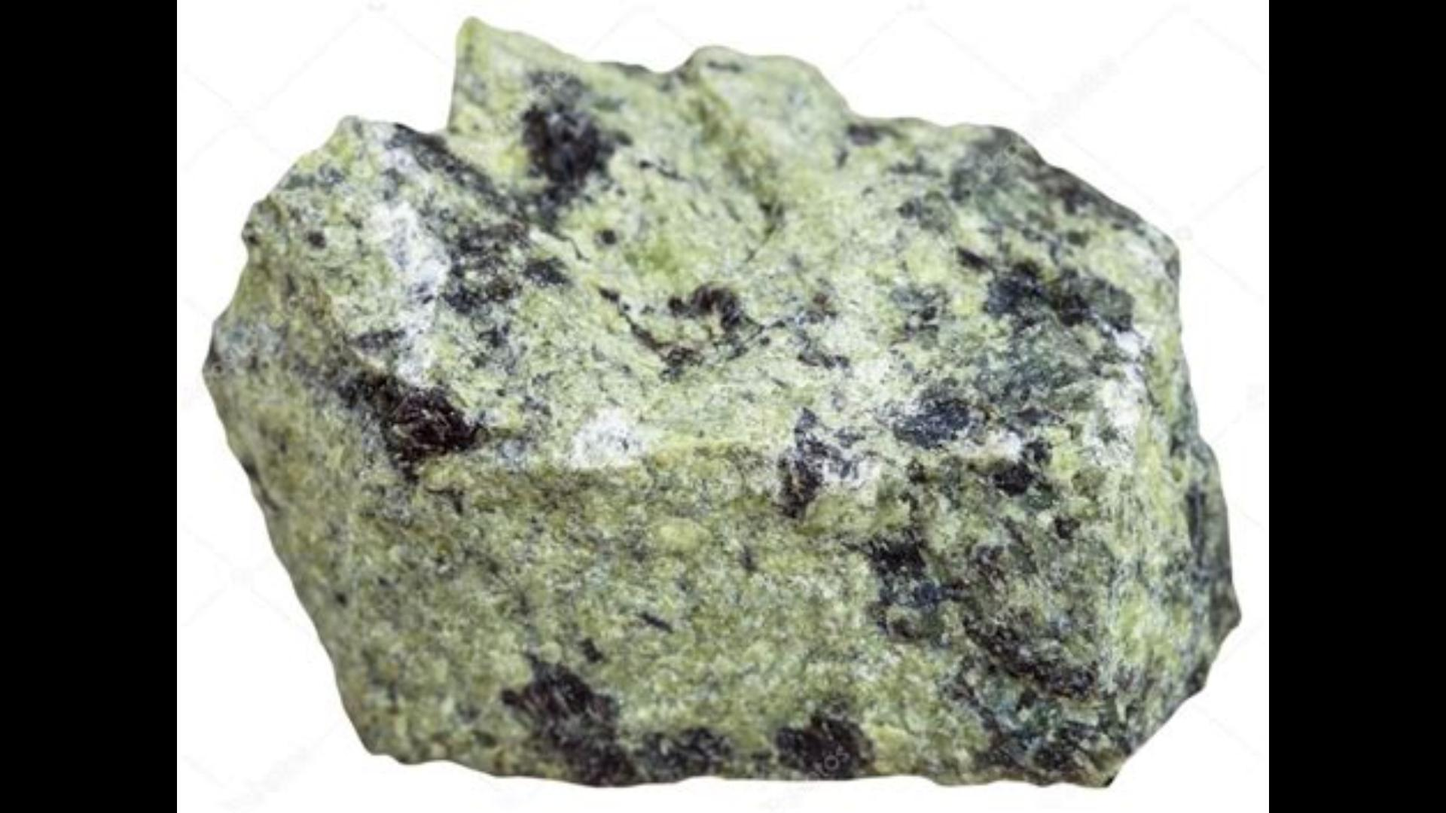rock: (205, 21, 1235, 781)
